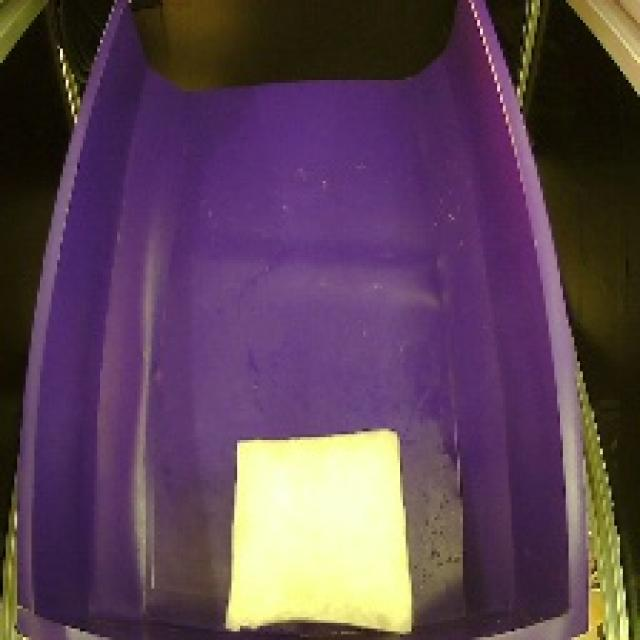white_radish: (203, 405, 434, 640)
